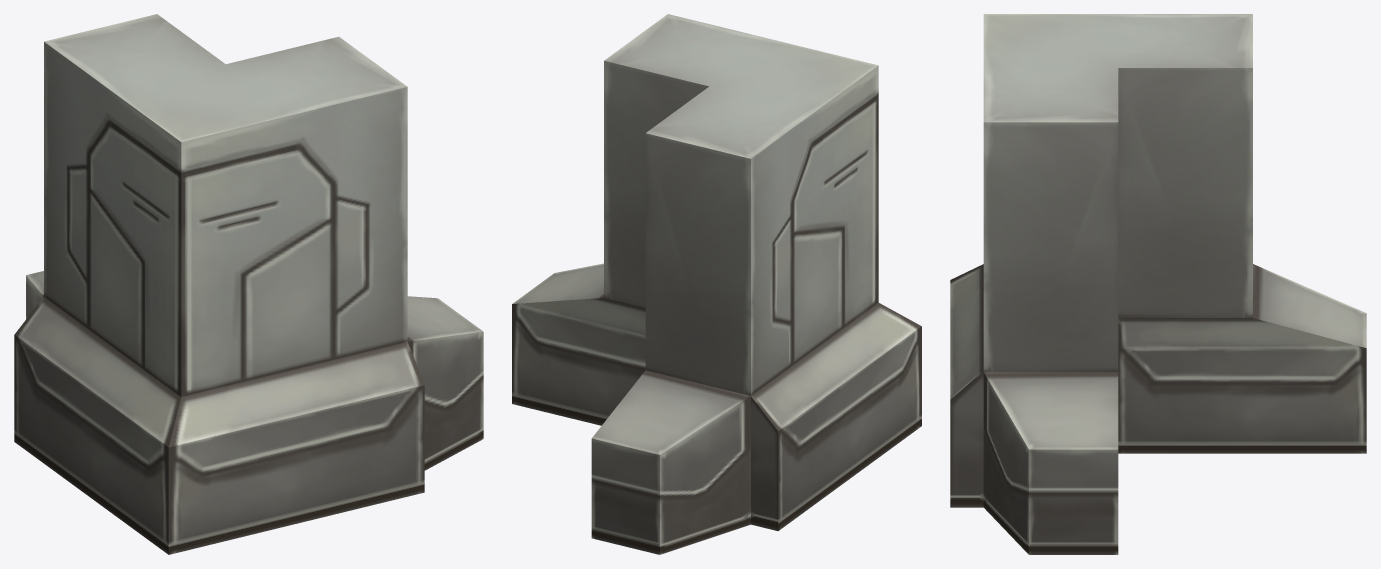
File: Wardrobe.fbx
3 renders of one model, left to right at view 1: azimuth 30°, elevation 25°; view 2: azimuth 150°, elevation 25°; view 3: azimuth 270°, elevation 25°, orthographic. The views are drawn at different scales.
Visible parts, largest first — view 1: Wardrobe; view 2: Wardrobe; view 3: Wardrobe.
Part boxes in pixels (left/top/right/bottom): Wardrobe: left=14, top=14, right=483, bottom=554; Wardrobe: left=512, top=14, right=921, bottom=554; Wardrobe: left=950, top=14, right=1366, bottom=554.
Bounding box in the file's own units: 1.77 × 1.87 × 1.83.
